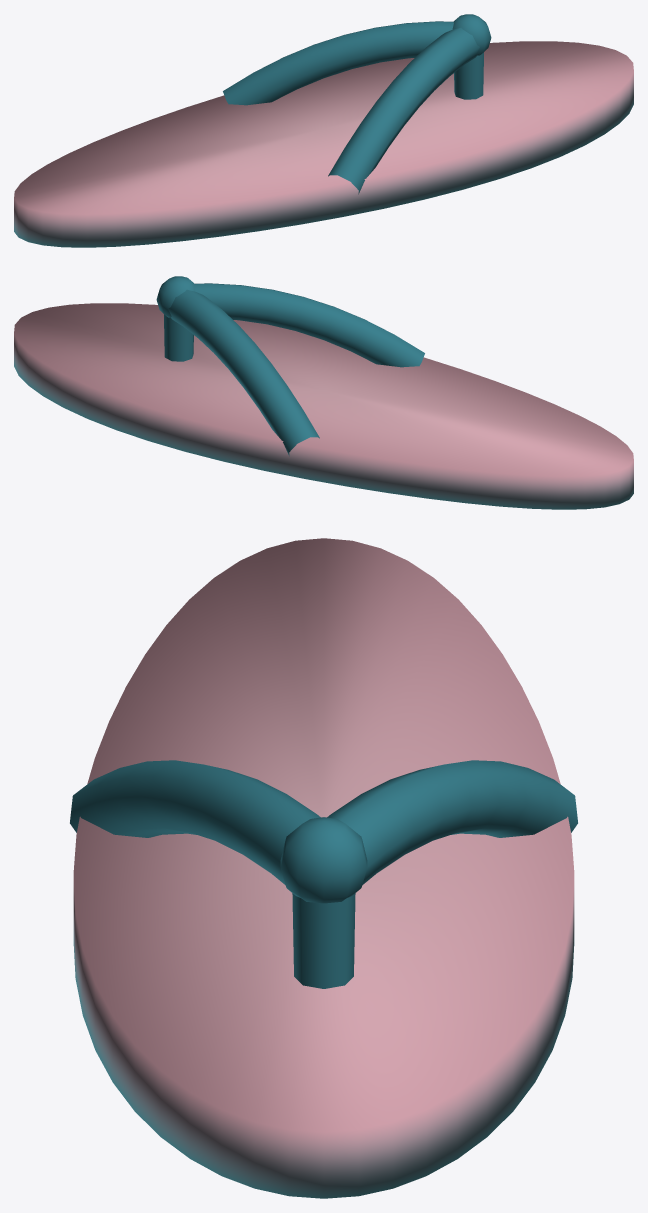
Rendered from Coast_Sandal.fbx.
3 renders of one model, top to bottom at view 1: azimuth 30°, elevation 25°; view 2: azimuth 150°, elevation 25°; view 3: azimuth 270°, elevation 25°, orthographic. The views are drawn at different scales.
Visible parts, largest first — view 1: Coast_Sandal; view 2: Coast_Sandal; view 3: Coast_Sandal.
Part boxes in pixels (left/top/right/bottom): Coast_Sandal: left=14, top=14, right=633, bottom=247; Coast_Sandal: left=14, top=276, right=633, bottom=509; Coast_Sandal: left=70, top=538, right=577, bottom=1198.
Bounding box in the file's own units: 10.5 × 1.84 × 3.8.
